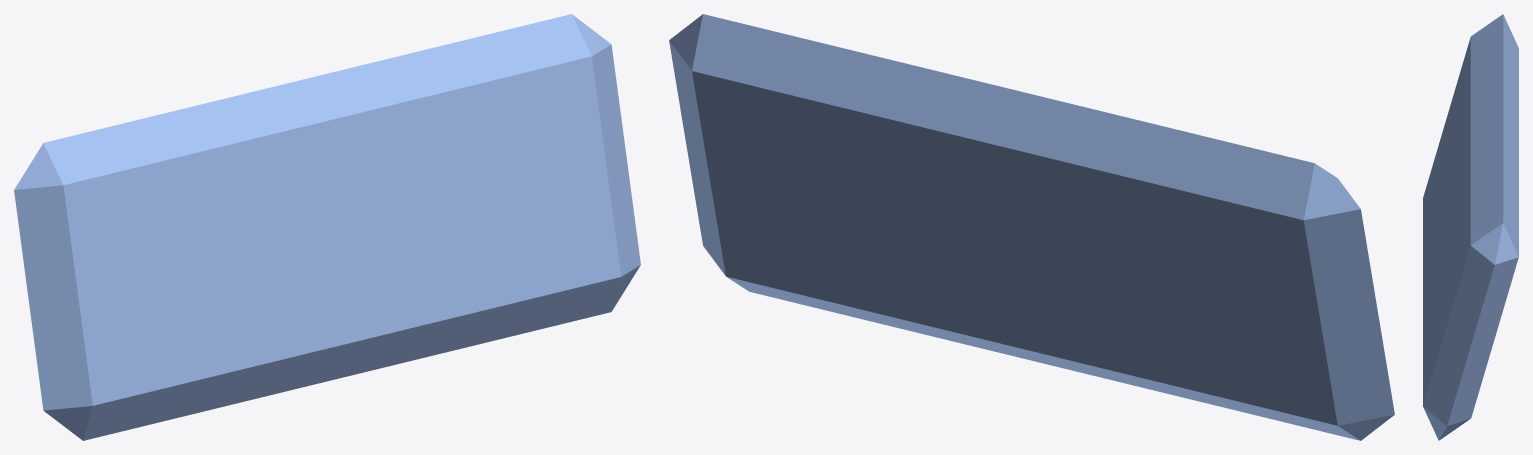
File: pillowbluelong.glb
The picture shows the model from 3 angles, left to right: view 1: azimuth 30°, elevation 25°; view 2: azimuth 150°, elevation 25°; view 3: azimuth 270°, elevation 25°; orthographic projection. The views are drawn at different scales.
Parts seen in each view (by area): view 1: pillowBlueLong(Clone); view 2: pillowBlueLong(Clone); view 3: pillowBlueLong(Clone).
Part boxes in pixels (x1,y1,x2,y2): pillowBlueLong(Clone): (14,14,640,440); pillowBlueLong(Clone): (669,14,1394,440); pillowBlueLong(Clone): (1423,14,1518,440).
Size of the model in its own units: 0.5166 by 0.2222 by 0.0885.
